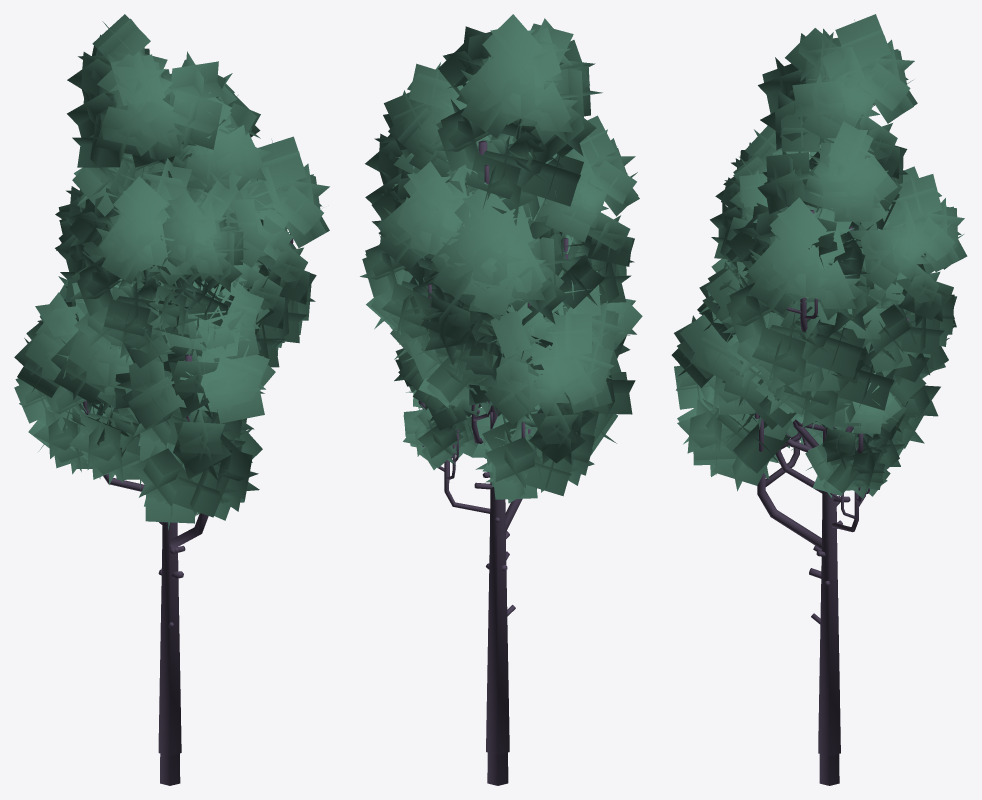
File: Lodgepole Pine.fbx
The picture shows the model from 3 angles, left to right: view 1: azimuth 30°, elevation 25°; view 2: azimuth 150°, elevation 25°; view 3: azimuth 270°, elevation 25°; orthographic projection. The views are drawn at different scales.
Parts seen in each view (by area): view 1: Lodgepole Pine 3 LOD 0, Lodgepole Pine 4 LOD 0, Lodgepole Pine 2 LOD 0, Lodgepole Pine 5 LOD 0, Lodgepole Pine 1 LOD 0; view 2: Lodgepole Pine 4 LOD 0, Lodgepole Pine 3 LOD 0, Lodgepole Pine 1 LOD 0, Lodgepole Pine 2 LOD 0, Lodgepole Pine 5 LOD 0; view 3: Lodgepole Pine 3 LOD 0, Lodgepole Pine 4 LOD 0, Lodgepole Pine 1 LOD 0, Lodgepole Pine 2 LOD 0, Lodgepole Pine 5 LOD 0.
Boxes of the visible parts, x1=… form: Lodgepole Pine 3 LOD 0: x1=55, y1=14, x2=329, y2=785; Lodgepole Pine 4 LOD 0: x1=14, y1=73, x2=270, y2=552; Lodgepole Pine 2 LOD 0: x1=56, y1=178, x2=296, y2=575; Lodgepole Pine 5 LOD 0: x1=45, y1=262, x2=259, y2=553; Lodgepole Pine 1 LOD 0: x1=64, y1=284, x2=181, y2=755; Lodgepole Pine 4 LOD 0: x1=360, y1=62, x2=639, y2=503; Lodgepole Pine 3 LOD 0: x1=365, y1=14, x2=642, y2=785; Lodgepole Pine 1 LOD 0: x1=394, y1=268, x2=567, y2=754; Lodgepole Pine 2 LOD 0: x1=403, y1=208, x2=573, y2=570; Lodgepole Pine 5 LOD 0: x1=389, y1=271, x2=625, y2=538; Lodgepole Pine 3 LOD 0: x1=671, y1=14, x2=934, y2=785; Lodgepole Pine 4 LOD 0: x1=708, y1=109, x2=967, y2=556; Lodgepole Pine 1 LOD 0: x1=786, y1=360, x2=906, y2=756; Lodgepole Pine 2 LOD 0: x1=697, y1=221, x2=956, y2=551; Lodgepole Pine 5 LOD 0: x1=755, y1=243, x2=915, y2=502.
Size of what is drawn, in the model's own units: 662 by 1825 by 653.
